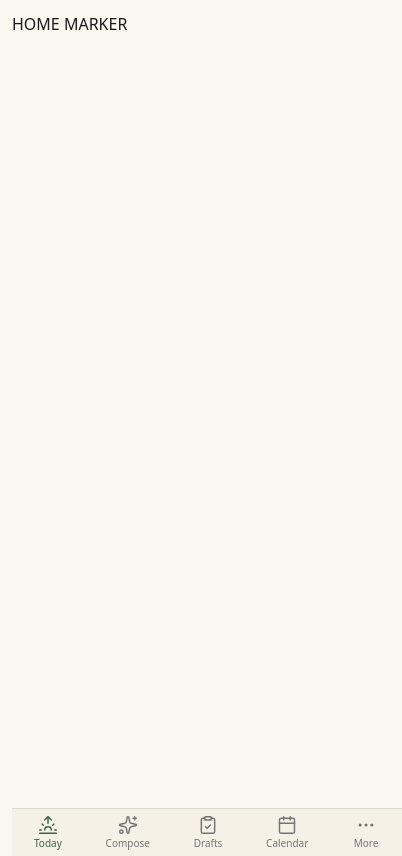
AppShell layout › renders the first four NAV_ITEMS in the bottom nav and the rest under More
Expected: the link "Today" is shown, [34,815,62,850]
Expected: the link "Compose" is shown, [106,815,150,850]
Click the button "More": click(366, 832) [344,809,388,855]
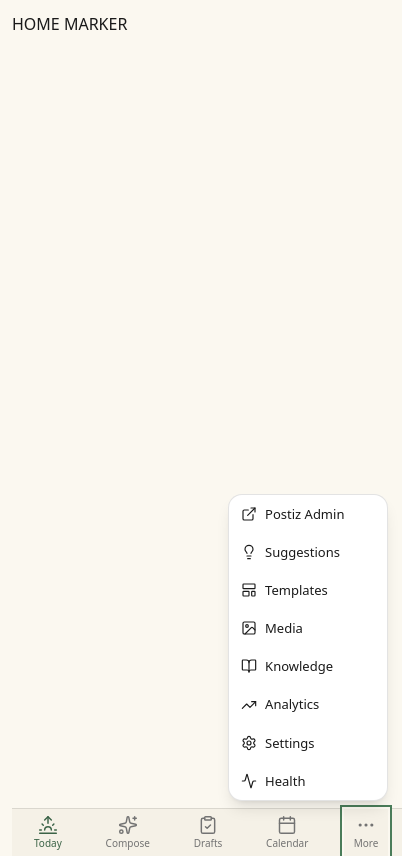
Expected: the link "Suggestions" is shown, [241,543,340,561]
Expected: the link "Templates" is shown, [241,581,328,599]
Expected: the link "Media" is shown, [241,619,303,637]
